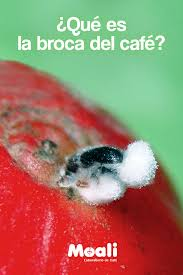broca de cafe: (12, 76, 172, 235)
